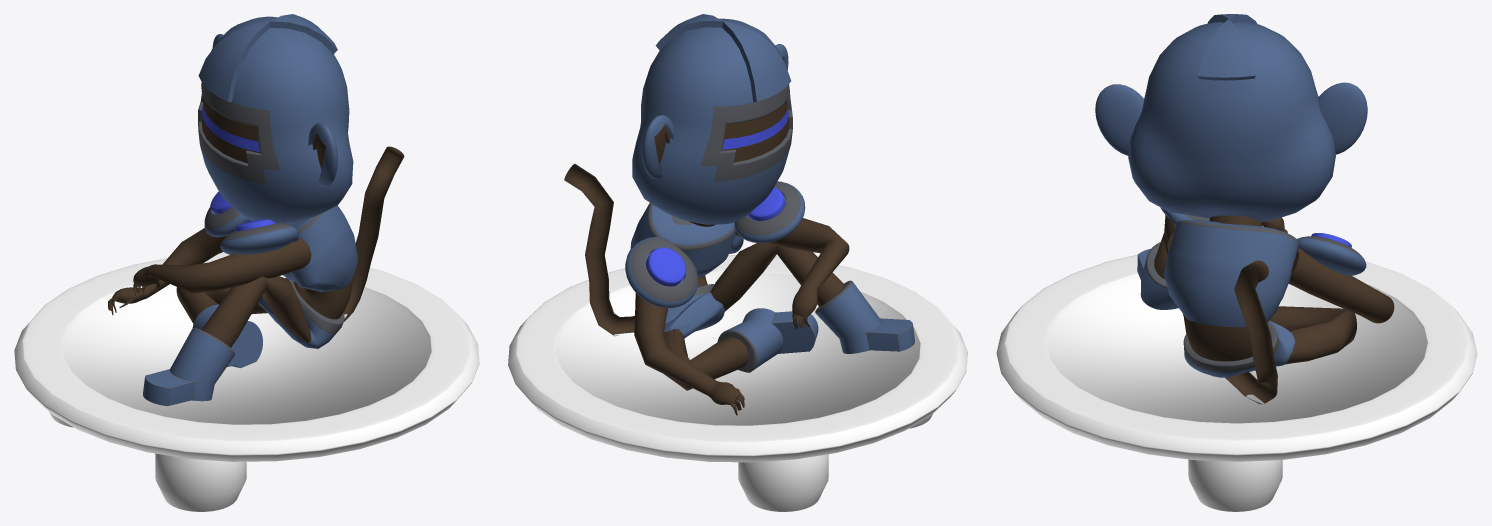
Rendered from Monkey_Idle.fbx.
3 views of the same model, side by side, from view 1: azimuth 30°, elevation 25°; view 2: azimuth 150°, elevation 25°; view 3: azimuth 270°, elevation 25° (orthographic). The views are drawn at different scales.
Visible parts, largest first — view 1: Body; view 2: Body; view 3: Body.
Boxes of the visible parts, box(x1,y1,x2,y2) form: Body: box(14, 14, 479, 511); Body: box(508, 14, 967, 511); Body: box(996, 14, 1477, 511).
Bounding box in the file's own units: 98.18 × 94.54 × 98.18.
